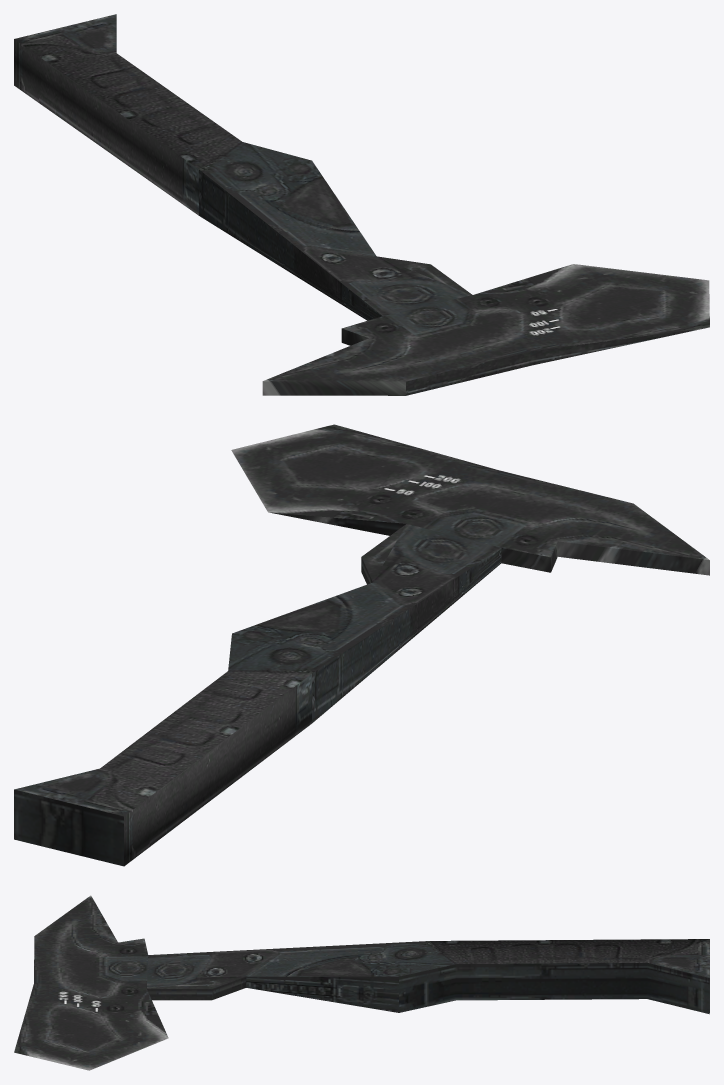
File: t6_wpn_hatchet_world_retrieve_LOD2.obj
The picture shows the model from 3 angles, top to bottom: view 1: azimuth 30°, elevation 25°; view 2: azimuth 150°, elevation 25°; view 3: azimuth 270°, elevation 25°; orthographic projection. The views are drawn at different scales.
Parts seen in each view (by area): view 1: mtl_t6_wpn_hatchet_retrieve; view 2: mtl_t6_wpn_hatchet_retrieve; view 3: mtl_t6_wpn_hatchet_retrieve.
Part boxes in pixels (left/top/right/bottom): mtl_t6_wpn_hatchet_retrieve: left=14, top=14, right=709, bottom=395; mtl_t6_wpn_hatchet_retrieve: left=14, top=424, right=709, bottom=866; mtl_t6_wpn_hatchet_retrieve: left=14, top=895, right=709, bottom=1070.
Size of the model in its own units: 20.03 by 2 by 34.69.
